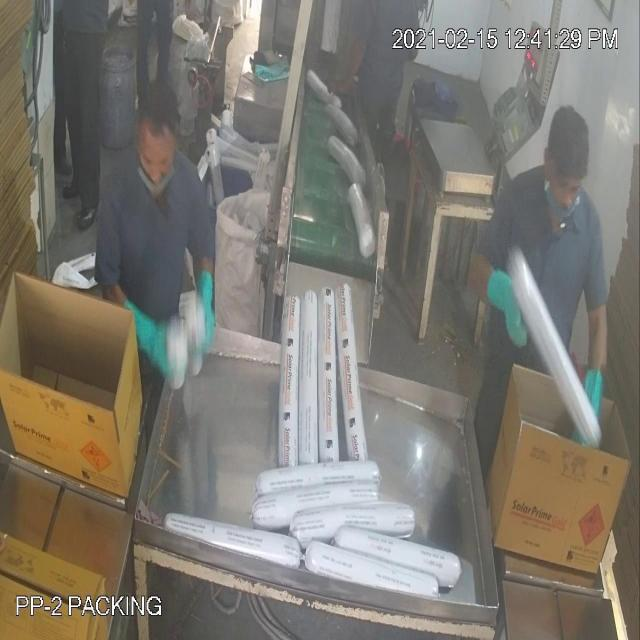Gloves: (48, 68, 514, 338)
